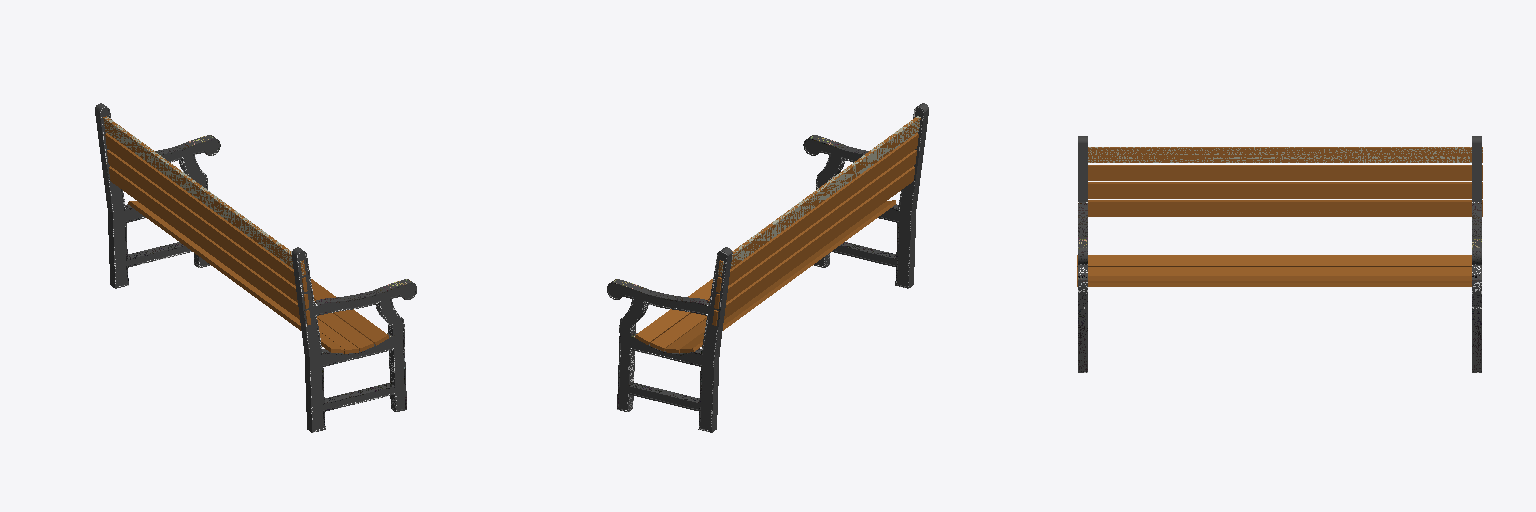
3 views of the same model, side by side, from view 1: azimuth 30°, elevation 25°; view 2: azimuth 150°, elevation 25°; view 3: azimuth 270°, elevation 25° (orthographic).
Parts seen in each view (by area): view 1: mesh10_mesh10-geometry, mesh18_mesh18-geometry, mesh9_mesh9-geometry, mesh14_mesh14-geometry, mesh12_mesh12-geometry, mesh5_mesh5-geometry, mesh1_mesh1-geometry, mesh7_mesh7-geometry, mesh16_mesh16-geometry; view 2: mesh18_mesh18-geometry, mesh10_mesh10-geometry, mesh9_mesh9-geometry, mesh14_mesh14-geometry, mesh12_mesh12-geometry, mesh5_mesh5-geometry, mesh1_mesh1-geometry, mesh7_mesh7-geometry, mesh16_mesh16-geometry; view 3: mesh14_mesh14-geometry, mesh12_mesh12-geometry, mesh9_mesh9-geometry, mesh5_mesh5-geometry, mesh1_mesh1-geometry, mesh3_mesh3-geometry, mesh18_mesh18-geometry, mesh10_mesh10-geometry, mesh7_mesh7-geometry, mesh16_mesh16-geometry.
Part boxes in pixels (bbox=[...]): mesh10_mesh10-geometry: bbox=[292, 247, 416, 432]; mesh18_mesh18-geometry: bbox=[95, 103, 220, 288]; mesh9_mesh9-geometry: bbox=[103, 116, 305, 275]; mesh14_mesh14-geometry: bbox=[109, 166, 310, 325]; mesh12_mesh12-geometry: bbox=[107, 150, 308, 308]; mesh5_mesh5-geometry: bbox=[105, 133, 307, 291]; mesh1_mesh1-geometry: bbox=[128, 201, 344, 353]; mesh7_mesh7-geometry: bbox=[311, 279, 388, 345]; mesh16_mesh16-geometry: bbox=[314, 300, 373, 351]; mesh18_mesh18-geometry: bbox=[607, 247, 732, 432]; mesh10_mesh10-geometry: bbox=[803, 103, 928, 288]; mesh9_mesh9-geometry: bbox=[718, 116, 920, 275]; mesh14_mesh14-geometry: bbox=[712, 166, 914, 325]; mesh12_mesh12-geometry: bbox=[714, 150, 916, 308]; mesh5_mesh5-geometry: bbox=[716, 133, 918, 292]; mesh1_mesh1-geometry: bbox=[680, 200, 895, 352]; mesh7_mesh7-geometry: bbox=[635, 279, 712, 344]; mesh16_mesh16-geometry: bbox=[650, 300, 709, 351]; mesh14_mesh14-geometry: bbox=[1088, 200, 1482, 216]; mesh12_mesh12-geometry: bbox=[1088, 182, 1482, 198]; mesh9_mesh9-geometry: bbox=[1088, 147, 1482, 162]; mesh5_mesh5-geometry: bbox=[1088, 165, 1482, 180]; mesh1_mesh1-geometry: bbox=[1077, 255, 1471, 266]; mesh3_mesh3-geometry: bbox=[1077, 267, 1471, 275]; mesh18_mesh18-geometry: bbox=[1472, 136, 1481, 372]; mesh10_mesh10-geometry: bbox=[1078, 136, 1087, 372]; mesh7_mesh7-geometry: bbox=[1077, 281, 1471, 286]; mesh16_mesh16-geometry: bbox=[1077, 276, 1471, 280].
Size of the model in its own units: 0.2942 by 0.4284 by 0.8543.
5 materials, 1 textured.